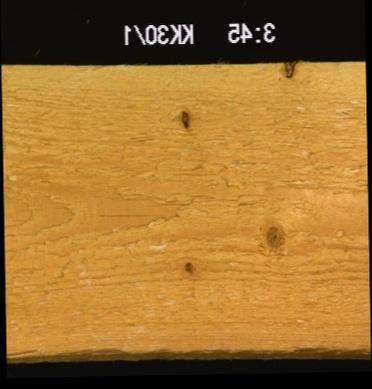dry_knot: (179, 108, 190, 128)
edge_knot: (280, 60, 296, 77)
small_knot: (182, 259, 195, 273)
sound_knot: (260, 219, 288, 256)
wave: (5, 334, 369, 360)
